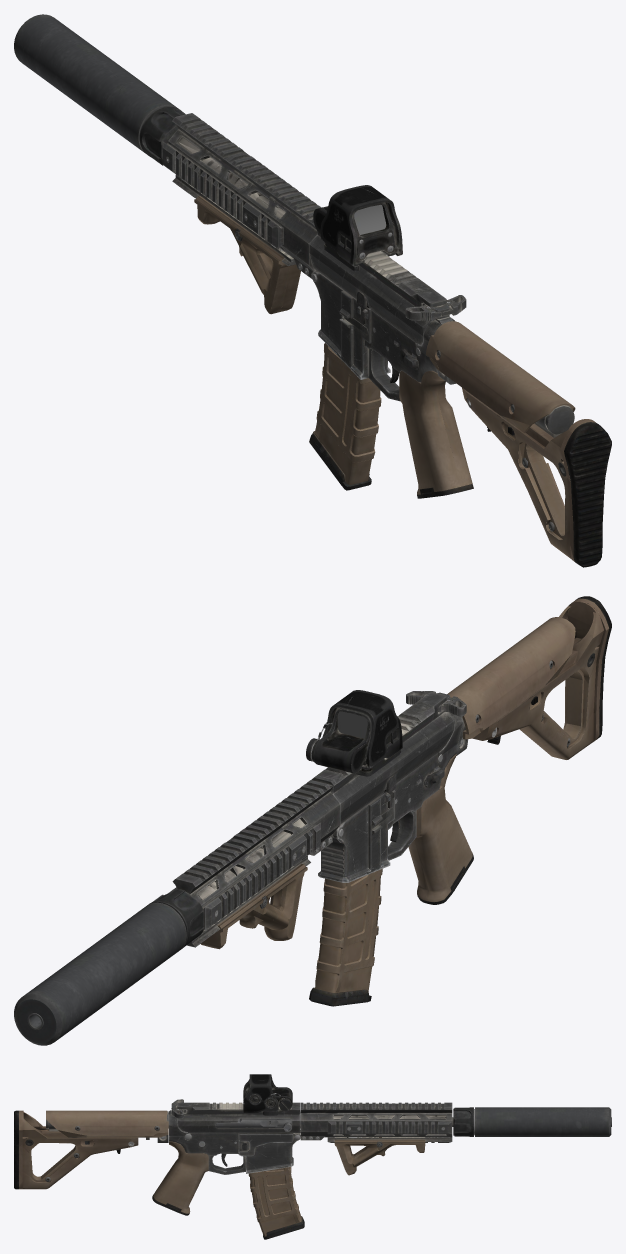
Rendered from carbine_ar.glb.
3 renders of one model, top to bottom at view 1: azimuth 30°, elevation 25°; view 2: azimuth 150°, elevation 25°; view 3: azimuth 270°, elevation 25°, orthographic. The views are drawn at different scales.
Parts seen in each view (by area): view 1: body, suppressor, magazine, bolt, glassB; view 2: body, suppressor, magazine, bolt, glassA; view 3: body, suppressor, magazine.
Boxes of the visible parts, box(x1,y1,x2,y2) form: body: box(162, 113, 611, 567); suppressor: box(14, 14, 185, 165); magazine: box(309, 343, 381, 490); bolt: box(405, 295, 466, 320); glassB: box(354, 204, 386, 236); body: box(168, 596, 611, 949); suppressor: box(14, 889, 204, 1045); magazine: box(309, 840, 382, 1006); bolt: box(406, 691, 466, 716); glassA: box(337, 711, 368, 738); body: box(14, 1074, 453, 1215); suppressor: box(453, 1107, 611, 1136); magazine: box(248, 1149, 304, 1239).
Bounding box in the file's own units: 0.0685 × 0.3372 × 1.15.
4 materials, 4 textured.
